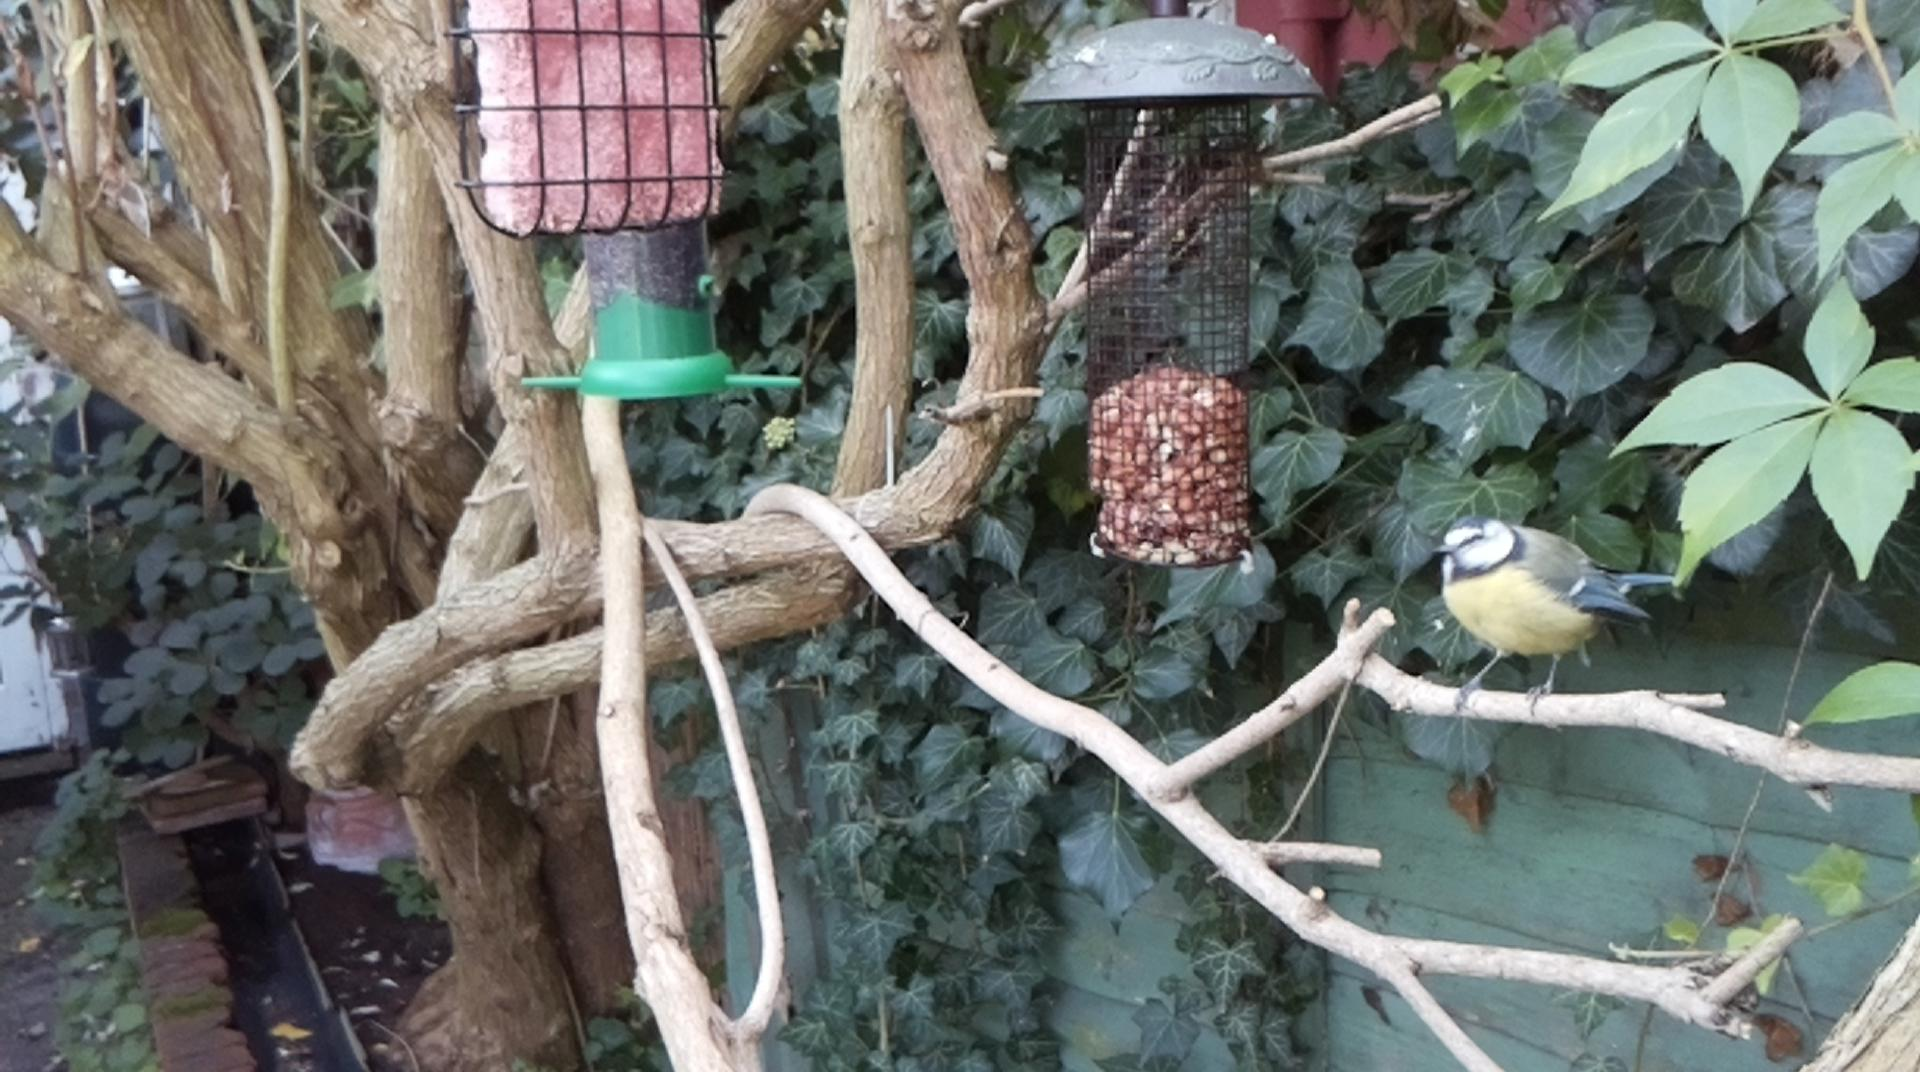blue tit: (1428, 514, 1677, 720)
